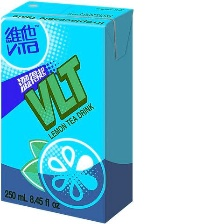carton: (0, 0, 140, 224)
